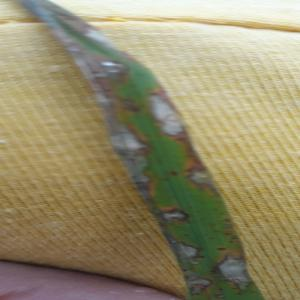Busuk Leher: (109, 119, 148, 194), (143, 88, 187, 144), (213, 252, 249, 294), (171, 236, 203, 270), (188, 161, 216, 194), (158, 207, 190, 222), (186, 276, 210, 296)
